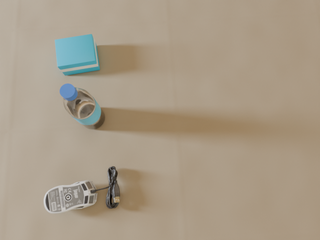bottle: (60, 84, 105, 129)
box: (55, 34, 100, 75)
mouse: (44, 180, 98, 214)
